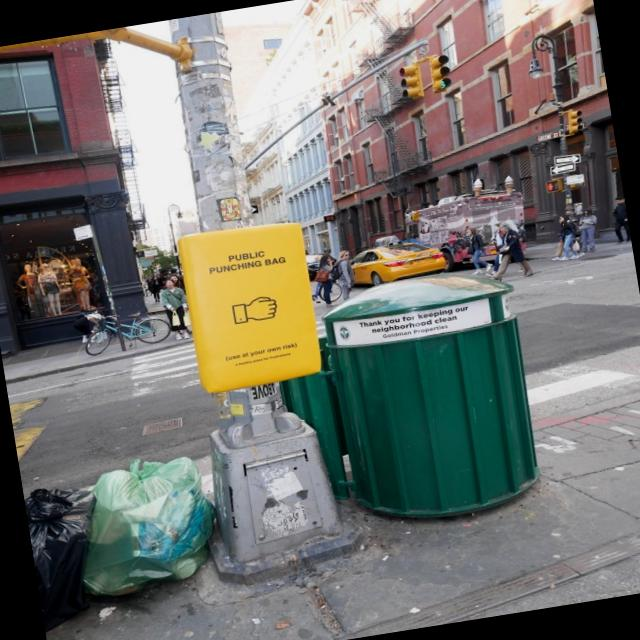garbage: (17, 351, 353, 640)
